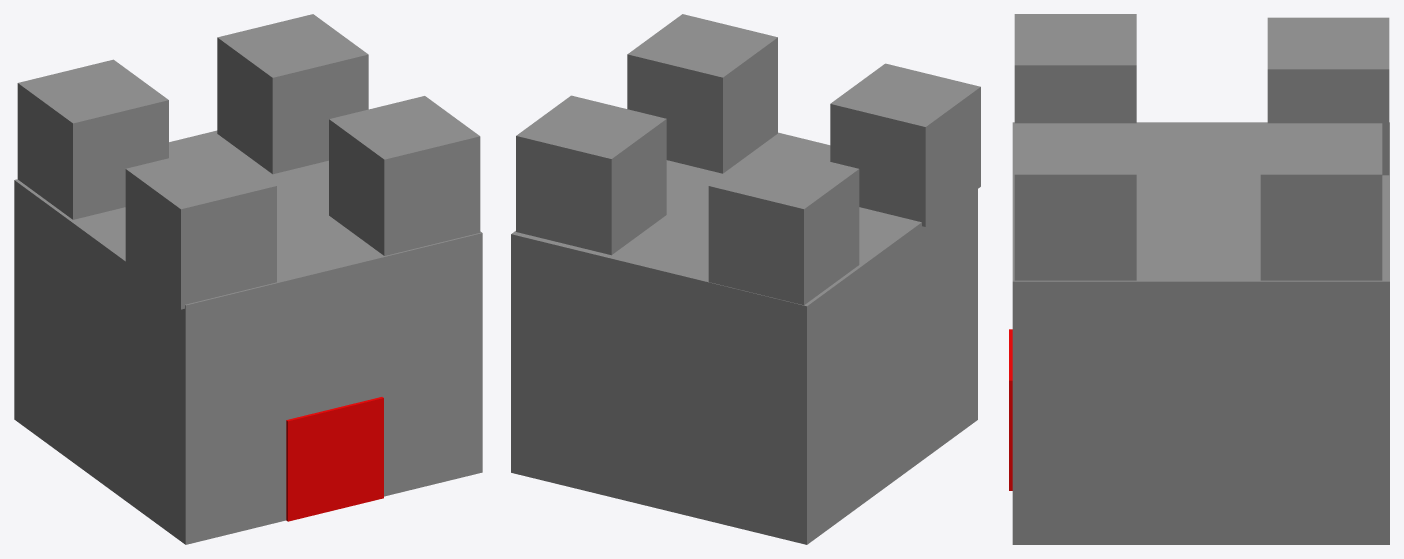
Rendered from Castle.fbx.
The picture shows the model from 3 angles, left to right: view 1: azimuth 30°, elevation 25°; view 2: azimuth 150°, elevation 25°; view 3: azimuth 270°, elevation 25°; orthographic projection. The views are drawn at different scales.
Visible parts, largest first — view 1: castle; view 2: castle; view 3: castle.
Boxes of the visible parts, x1,y1,x2,y2 form: castle: (14, 14, 482, 544); castle: (511, 14, 980, 544); castle: (1009, 14, 1389, 544).
Bounding box in the file's own units: 1.26 × 1.34 × 1.25.
